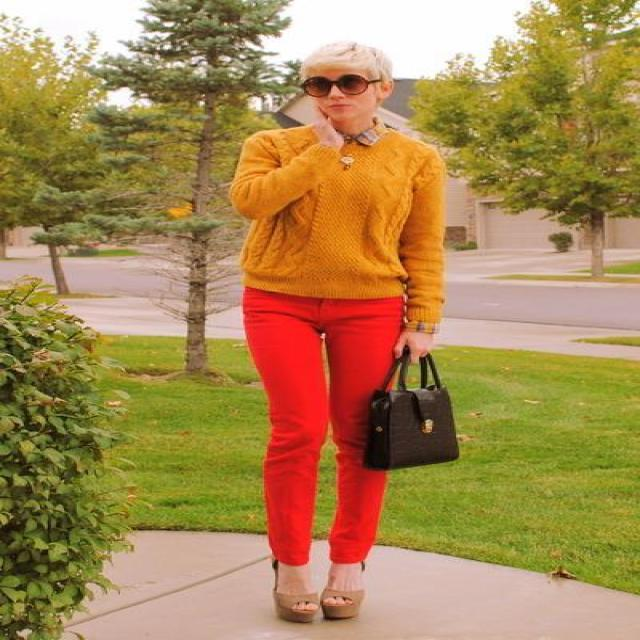bag: (352, 346, 458, 469)
jacket: (229, 128, 445, 335)
pants: (243, 286, 400, 571)
shoe: (275, 589, 363, 624)
sunglass: (301, 75, 366, 96)
